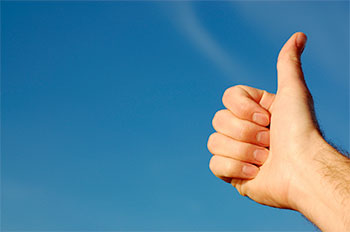thumbsup: (205, 31, 311, 212)
